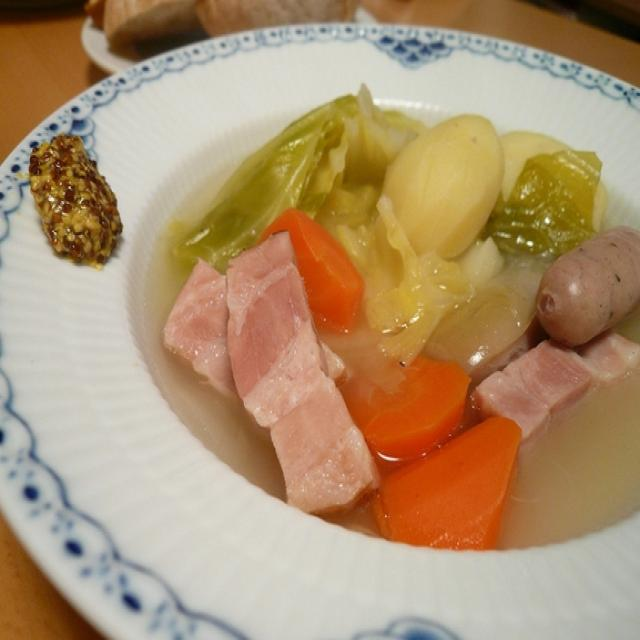汤锅炖物: (43, 28, 636, 615)
